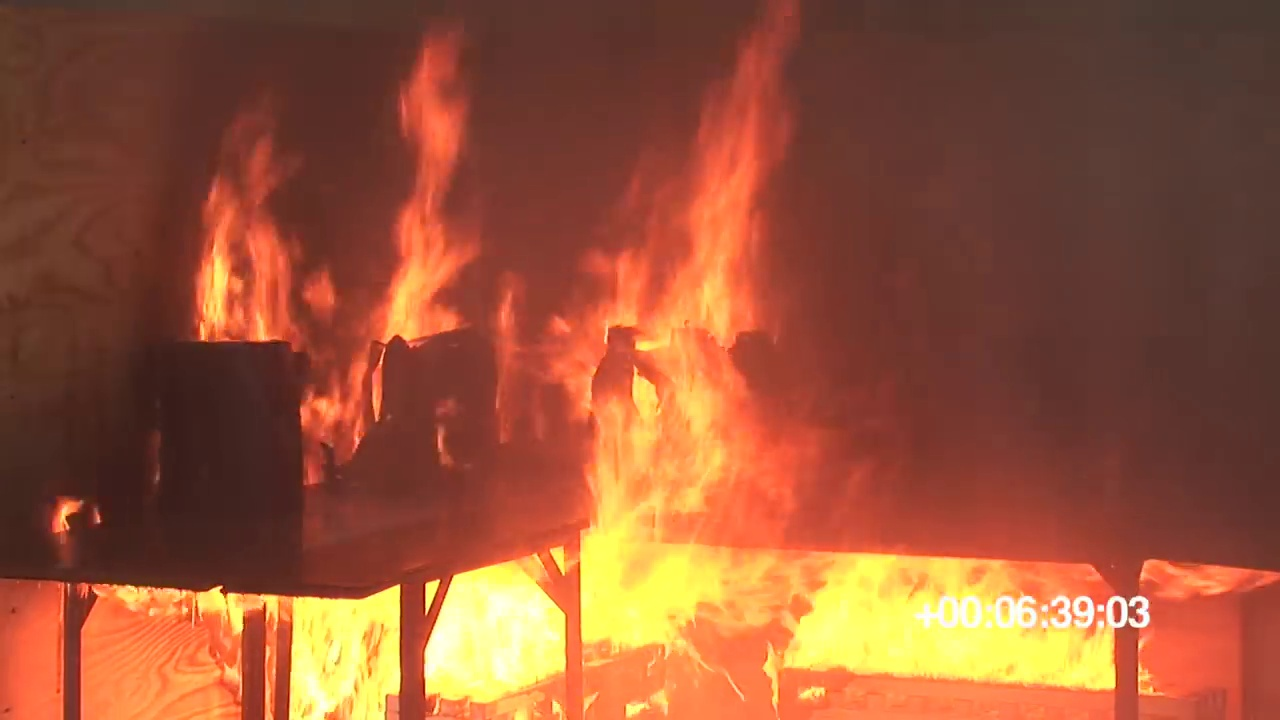fire: (557, 8, 809, 538), (296, 550, 1116, 685), (372, 29, 479, 339), (195, 144, 292, 343), (105, 583, 282, 620)
